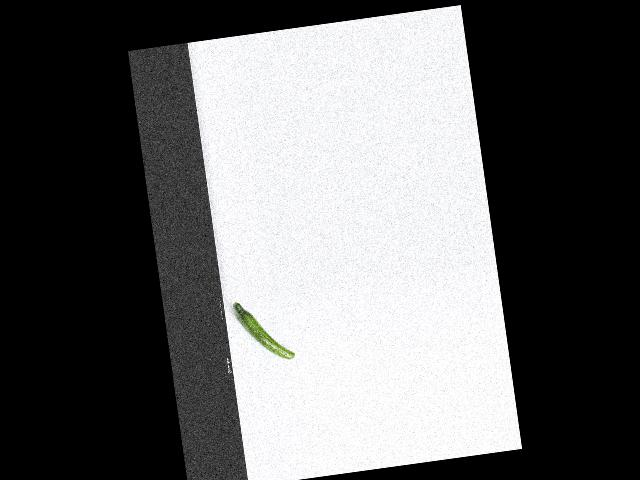cucumber: (232, 294, 295, 365)
